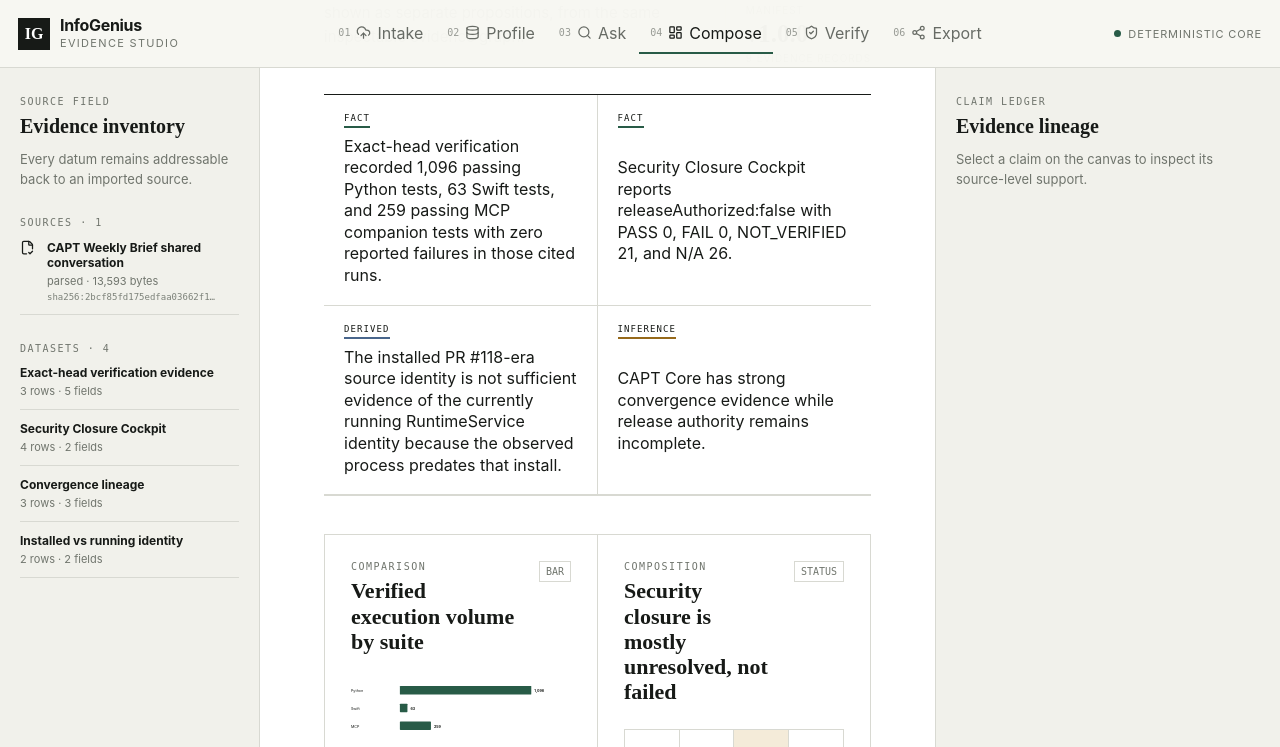
Test: Evidence Studio shell › opens the real CAPT brief as an inspectable six-stage project and exposes claim lineage
(page scrolled)
Expected: the button "05 Verify" is shown, [775,14,880,54]
Expected: the heading "Verified execution volume by suite" is shown, [351,578,519,654]
Click the button named "CAPT Core has strong convergence evidence while release authority remains incomplete": (734, 400) [598,306,871,495]
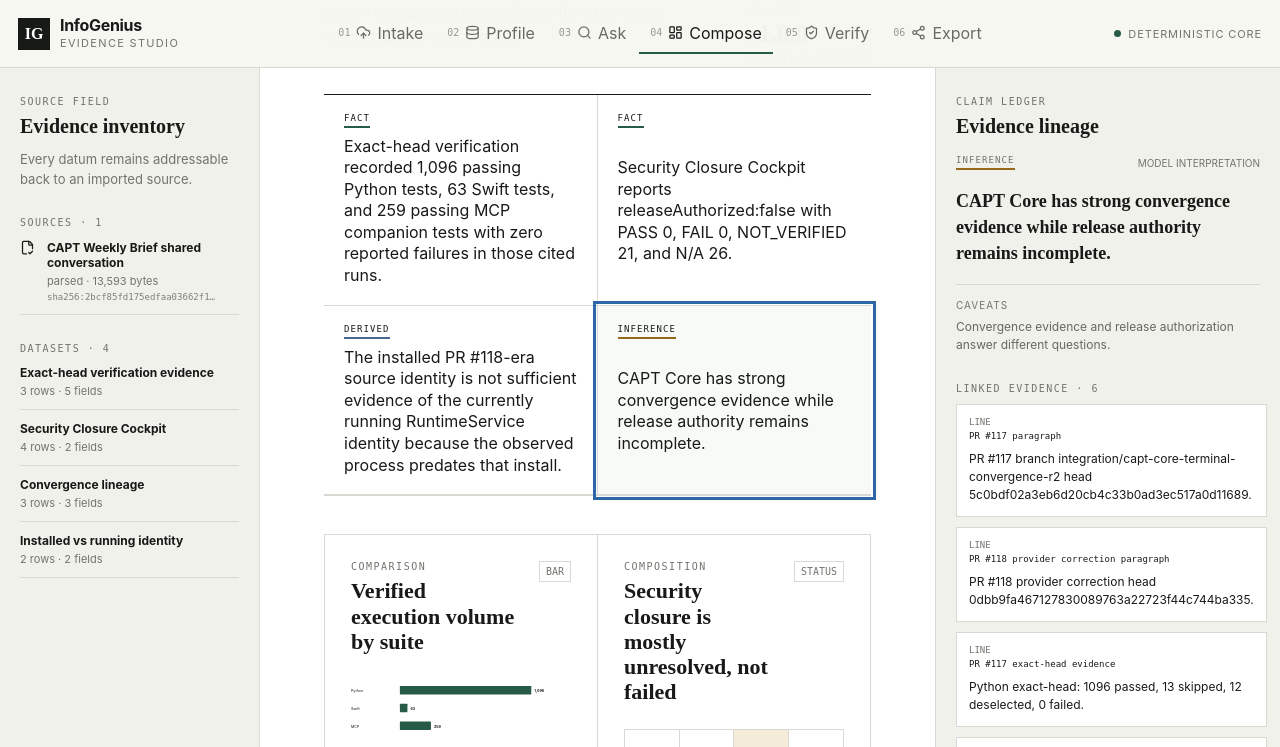
Expected: the heading "Evidence lineage" is shown, [956,115,1099,137]
Expected: the text "PR #117 branch integration/capt-core-terminal-convergence-r2" is shown, [969,451,1252,502]
